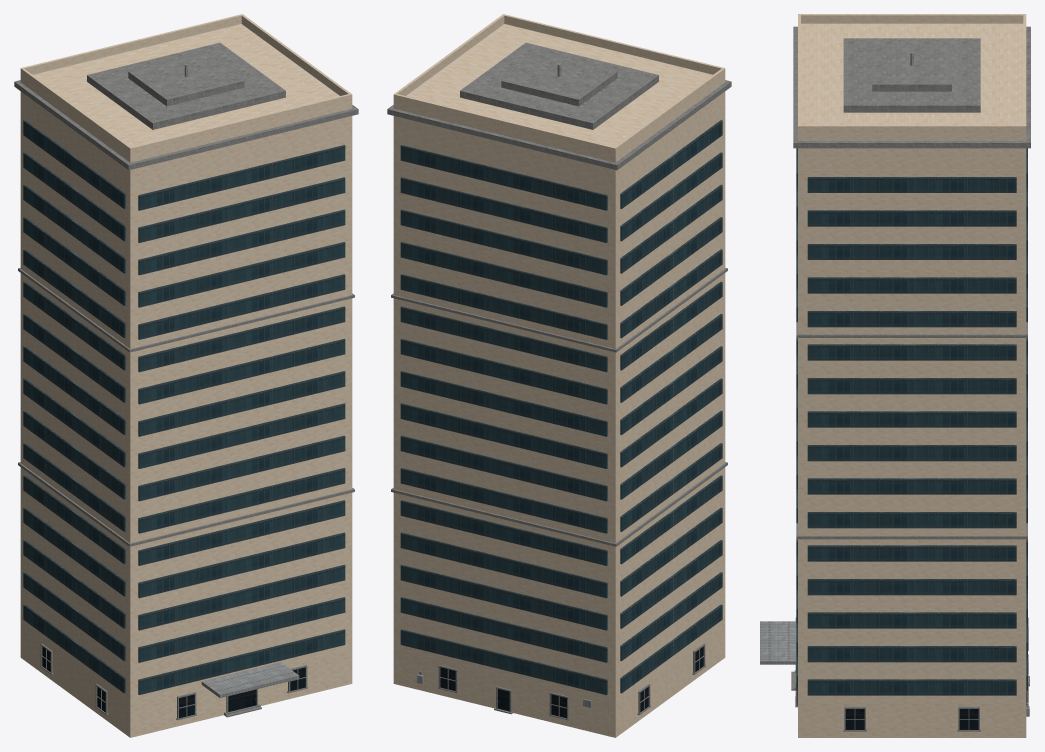
The model's file is congress-court-tower_lod0.gltf.
3 views of the same model, side by side, from view 1: azimuth 30°, elevation 25°; view 2: azimuth 150°, elevation 25°; view 3: azimuth 270°, elevation 25° (orthographic). The views are drawn at different scales.
Parts seen in each view (by area): view 1: congress-court-tower_main, congress-court-tower_fen_07-glass-curtain-blue_0, congress-court-tower__crown_step_1, congress-court-tower__crown_step_2, congress-court-tower__cornice, congress-court-tower__parapet_front, congress-court-tower__parapet_back, congress-court-tower__canopy, congress-court-tower__string_course_1, congress-court-tower__string_course_2, congress-court-tower_fen_07-glass-curtain-blue_2_t, congress-court-tower_fen_06-granite_1 (+2 smaller); view 2: congress-court-tower_main, congress-court-tower_fen_07-glass-curtain-blue_0, congress-court-tower__crown_step_1, congress-court-tower__crown_step_2, congress-court-tower__cornice, congress-court-tower__parapet_back, congress-court-tower__parapet_front, congress-court-tower__string_course_1, congress-court-tower__string_course_2, congress-court-tower_fen_07-glass-curtain-blue_2_t, congress-court-tower__parapet_left, congress-court-tower_fen_06-granite_1 (+1 smaller); view 3: congress-court-tower_main, congress-court-tower_fen_07-glass-curtain-blue_0, congress-court-tower__crown_step_1, congress-court-tower__crown_step_2, congress-court-tower__cornice, congress-court-tower__parapet_left, congress-court-tower__parapet_right, congress-court-tower__canopy, congress-court-tower__string_course_1, congress-court-tower__string_course_2, congress-court-tower_fen_07-glass-curtain-blue_2_t, congress-court-tower_fen_06-granite_1 (+1 smaller).
Boxes of the visible parts, x1,y1,x2,y2 form: congress-court-tower_main: [20, 24, 352, 737]; congress-court-tower_fen_07-glass-curtain-blue_0: [23, 120, 345, 694]; congress-court-tower__crown_step_1: [87, 42, 285, 129]; congress-court-tower__crown_step_2: [128, 53, 244, 106]; congress-court-tower__cornice: [14, 80, 358, 170]; congress-court-tower__parapet_front: [129, 93, 352, 156]; congress-court-tower__parapet_back: [20, 14, 243, 77]; congress-court-tower__canopy: [201, 662, 299, 698]; congress-court-tower__string_course_1: [18, 462, 354, 546]; congress-court-tower__string_course_2: [18, 268, 354, 352]; congress-court-tower_fen_07-glass-curtain-blue_2_t: [42, 646, 305, 718]; congress-court-tower_fen_06-granite_1: [40, 643, 307, 720]; congress-court-tower_main: [393, 24, 725, 737]; congress-court-tower_fen_07-glass-curtain-blue_0: [400, 120, 722, 694]; congress-court-tower__crown_step_1: [460, 42, 658, 129]; congress-court-tower__crown_step_2: [501, 53, 617, 106]; congress-court-tower__cornice: [387, 80, 731, 170]; congress-court-tower__parapet_back: [393, 93, 616, 156]; congress-court-tower__parapet_front: [502, 14, 725, 77]; congress-court-tower__string_course_1: [391, 462, 727, 546]; congress-court-tower__string_course_2: [391, 268, 727, 352]; congress-court-tower_fen_07-glass-curtain-blue_2_t: [440, 646, 703, 718]; congress-court-tower__parapet_left: [615, 68, 723, 155]; congress-court-tower_fen_06-granite_1: [438, 643, 705, 720]; congress-court-tower_main: [798, 23, 1026, 737]; congress-court-tower_fen_07-glass-curtain-blue_0: [796, 148, 1027, 695]; congress-court-tower__crown_step_1: [843, 38, 980, 112]; congress-court-tower__crown_step_2: [872, 45, 951, 91]; congress-court-tower__cornice: [793, 26, 1030, 148]; congress-court-tower__parapet_left: [801, 14, 1023, 23]; congress-court-tower__parapet_right: [801, 125, 1023, 134]; congress-court-tower__canopy: [760, 621, 796, 664]; congress-court-tower__string_course_1: [796, 523, 1027, 539]; congress-court-tower__string_course_2: [796, 322, 1027, 337]; congress-court-tower_fen_07-glass-curtain-blue_2_t: [797, 691, 1026, 729]; congress-court-tower_fen_06-granite_1: [791, 617, 1029, 731].
Bounding box in the file's own units: 29 × 73 × 28.5.
